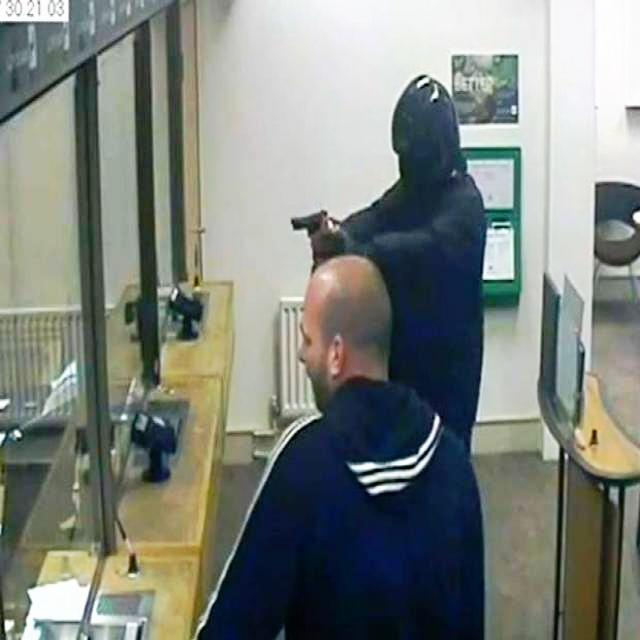Gun: (283, 202, 341, 248)
